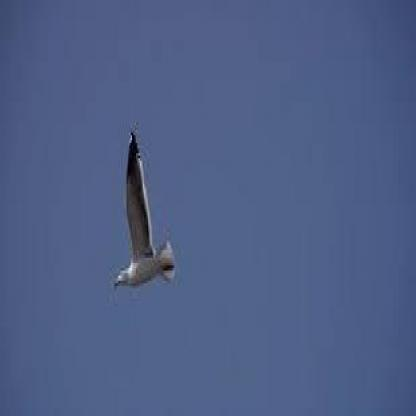bird: (89, 115, 213, 326)
